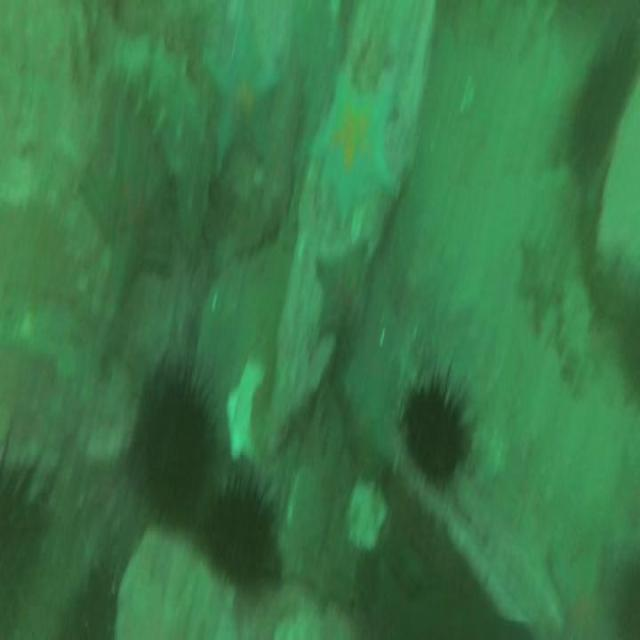echinus: (138, 374, 208, 524), (570, 44, 634, 176), (207, 488, 277, 582), (409, 382, 464, 482)
holothurian: (114, 32, 210, 262), (557, 264, 592, 400)
starfish: (84, 115, 170, 313), (312, 73, 391, 223), (210, 11, 280, 157), (340, 314, 402, 462), (314, 243, 368, 344), (520, 224, 563, 324)
